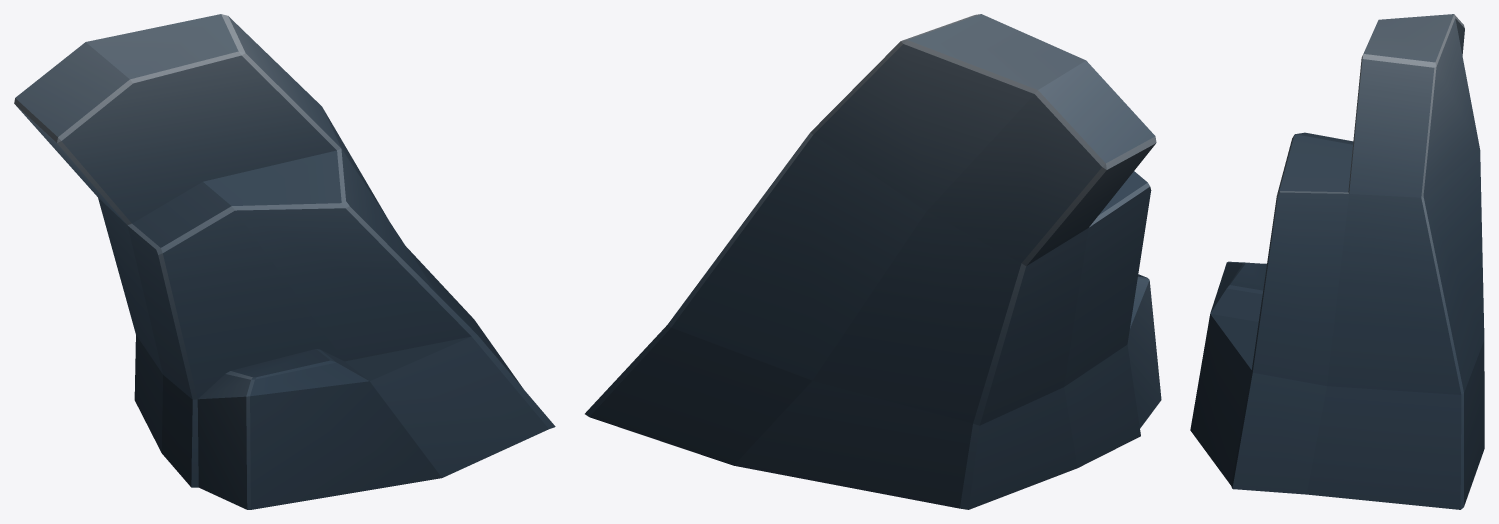
The model's file is Rock_1.fbx.
3 renders of one model, left to right at view 1: azimuth 30°, elevation 25°; view 2: azimuth 150°, elevation 25°; view 3: azimuth 270°, elevation 25°, orthographic. The views are drawn at different scales.
Parts seen in each view (by area): view 1: Rock_1; view 2: Rock_1; view 3: Rock_1.
Part boxes in pixels (x1=…): Rock_1: x1=14, y1=14, x2=555, y2=509; Rock_1: x1=585, y1=14, x2=1161, y2=509; Rock_1: x1=1190, y1=14, x2=1484, y2=509.
Size of the model in its own units: 379 by 301 by 241.
